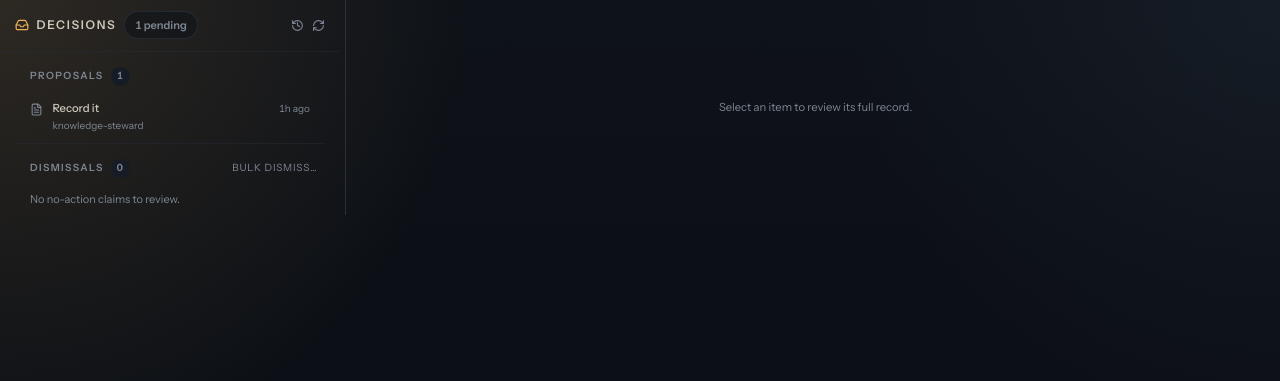
DecisionsView proposal pane › still says email for an unset kind — the column default
This screenshot has width=1280, height=381.
Click the text "Record it" at (76,108), box [52, 101, 99, 115]
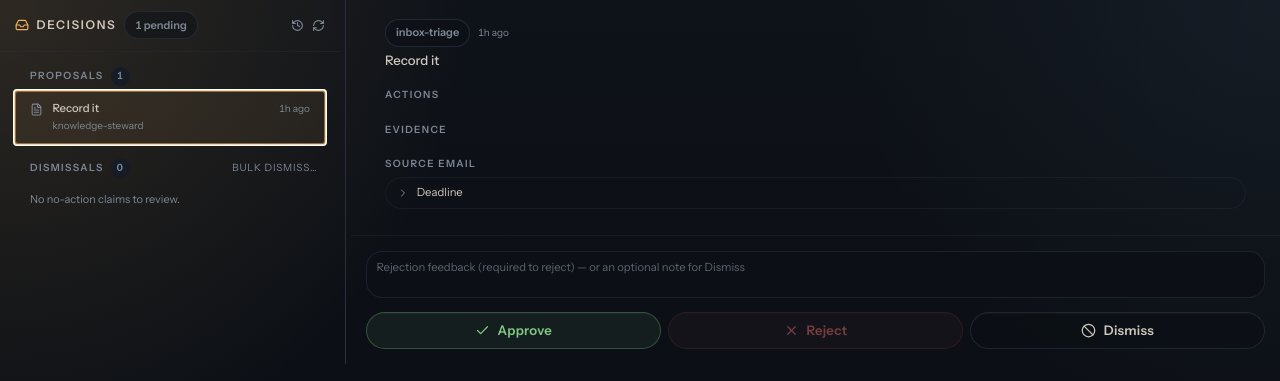
Now the heading "Source email" is shown, box [385, 157, 476, 170]
